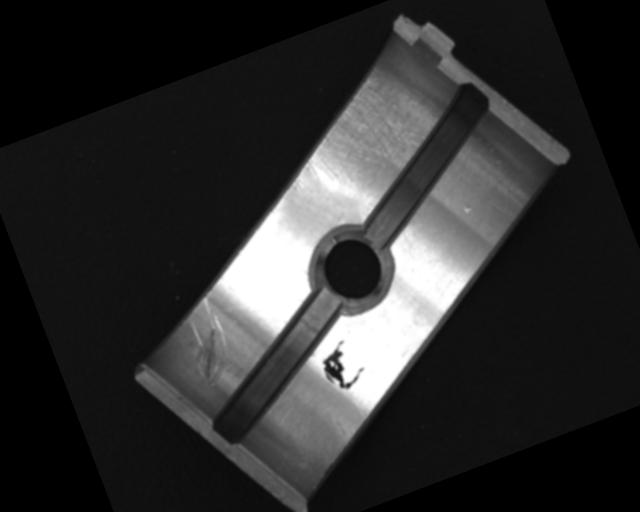blot: (314, 334, 370, 396)
bruise: (461, 201, 475, 215)
gap: (326, 77, 524, 250), (180, 286, 368, 448)
hole: (301, 218, 407, 322)
nick: (171, 293, 241, 391)
scratch: (263, 50, 450, 206)
